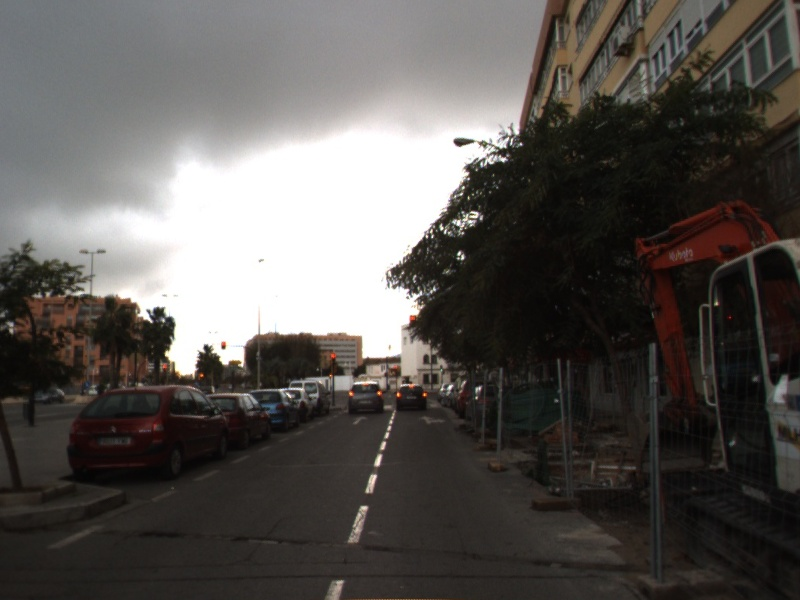STRAIGHT: (351, 415, 369, 426)
STRAIGHT_RIGHT: (418, 414, 448, 426)
